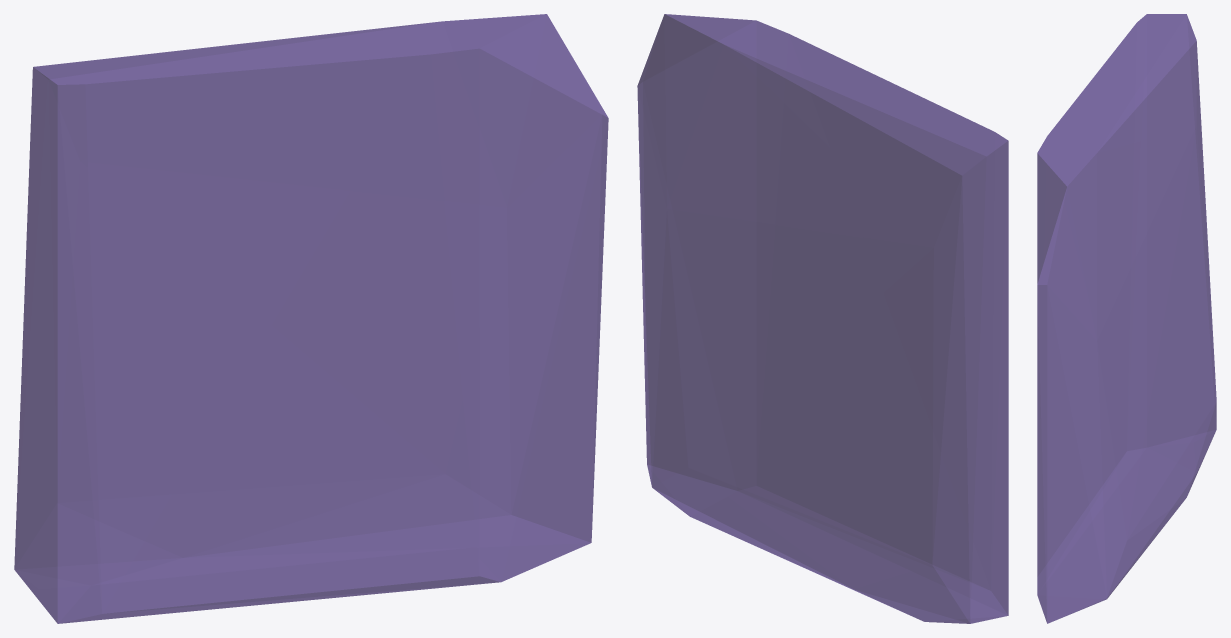
3 views of the same model, side by side, from view 1: azimuth 30°, elevation 25°; view 2: azimuth 150°, elevation 25°; view 3: azimuth 270°, elevation 25° (orthographic). The views are drawn at different scales.
Parts seen in each view (by area): view 1: Shape_IndexedFaceSet.012_Shape_IndexedFaceSet.14045; view 2: Shape_IndexedFaceSet.012_Shape_IndexedFaceSet.14045; view 3: Shape_IndexedFaceSet.012_Shape_IndexedFaceSet.14045.
Boxes of the visible parts, <box> form: Shape_IndexedFaceSet.012_Shape_IndexedFaceSet.14045: <box>14,14,608,623</box>; Shape_IndexedFaceSet.012_Shape_IndexedFaceSet.14045: <box>637,14,1008,623</box>; Shape_IndexedFaceSet.012_Shape_IndexedFaceSet.14045: <box>1037,14,1216,623</box>.
Bounding box in the file's own units: 0.1505 × 0.1605 × 0.0602.
